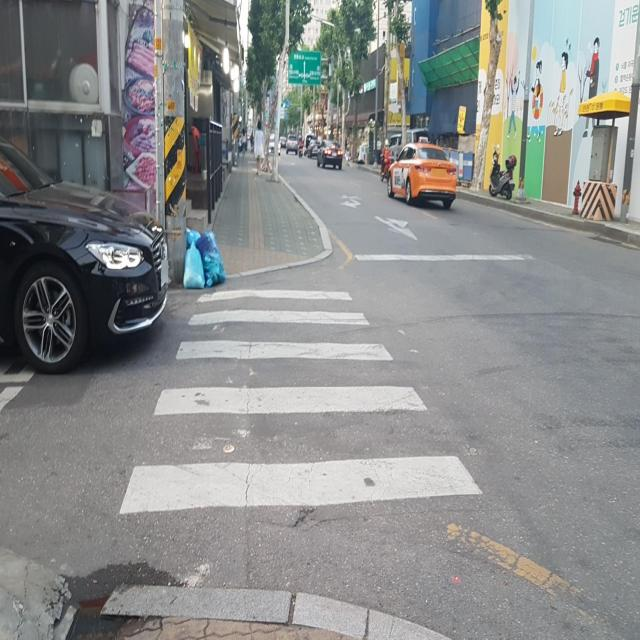횡단보도: (114, 286, 486, 520)
